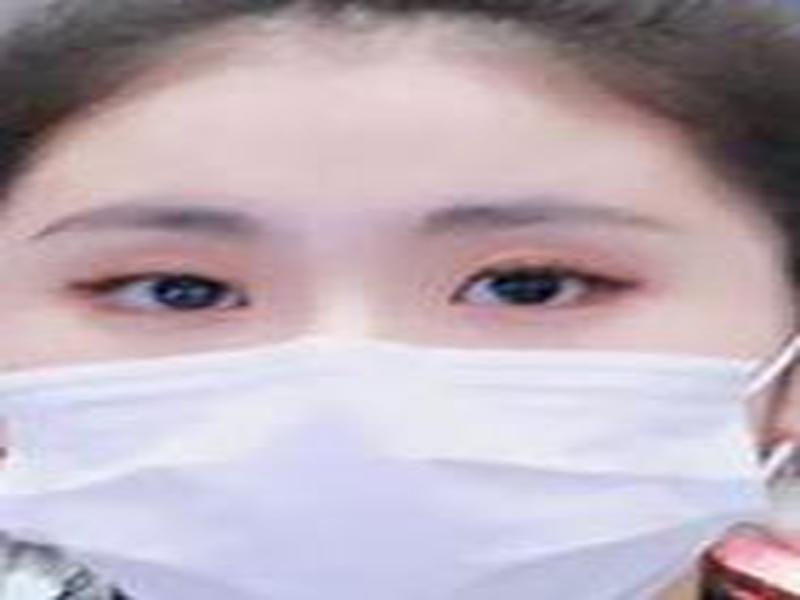with_mask: (1, 26, 793, 600)
